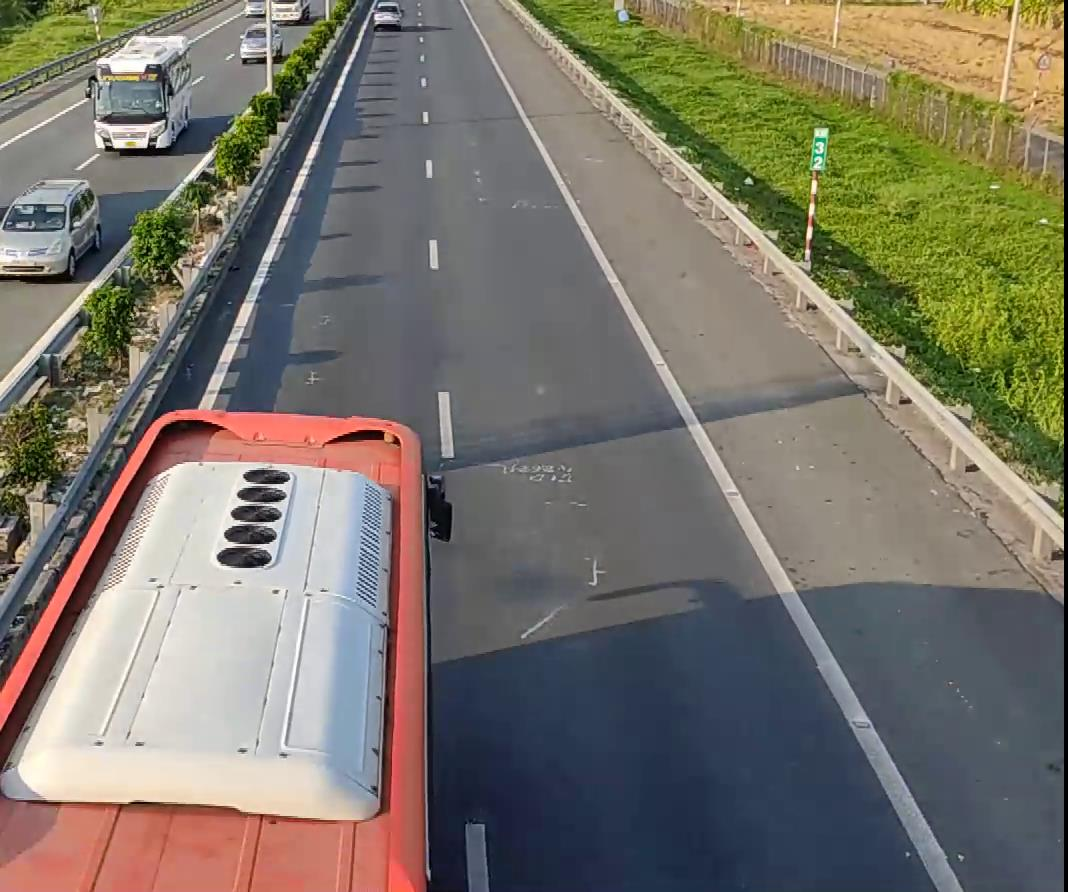bus: (1, 404, 442, 890), (89, 33, 193, 151)
car: (0, 177, 102, 280)
